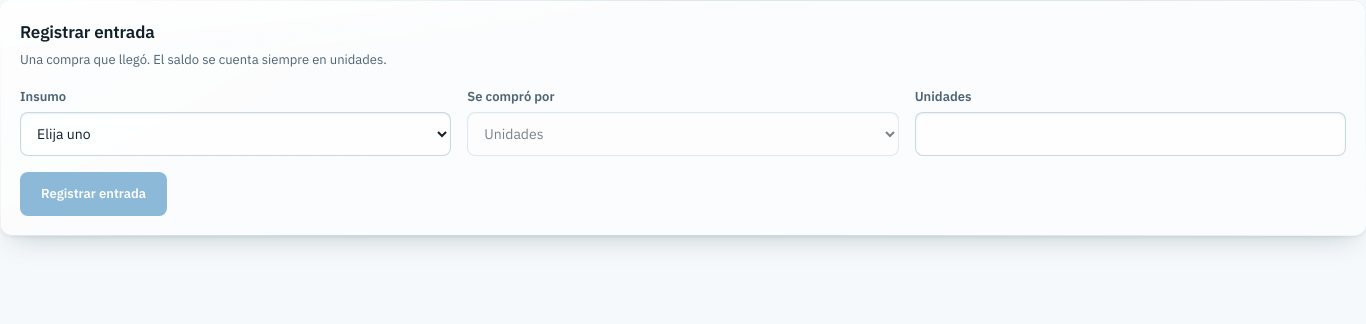
Test case: EntradaDeInsumo — la conversión se muestra antes de confirmar › en kilos muestra la cuenta entera: kilos × equivalencia = unidades
Select "TAP — Tapas" in the dropdown labelled "Insumo" at (236, 134), box [20,112,451,156]
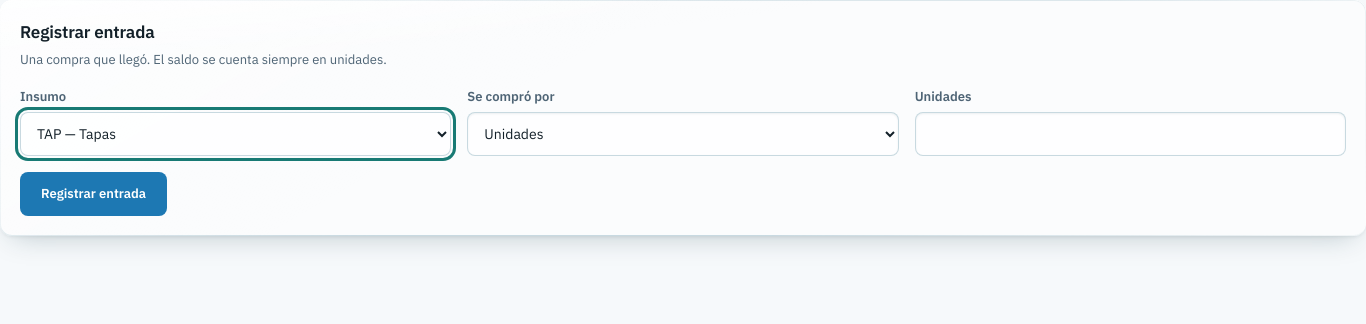
Select "Kilos" in the dropdown labelled "Se compró por" at (683, 134), box [467,112,899,156]
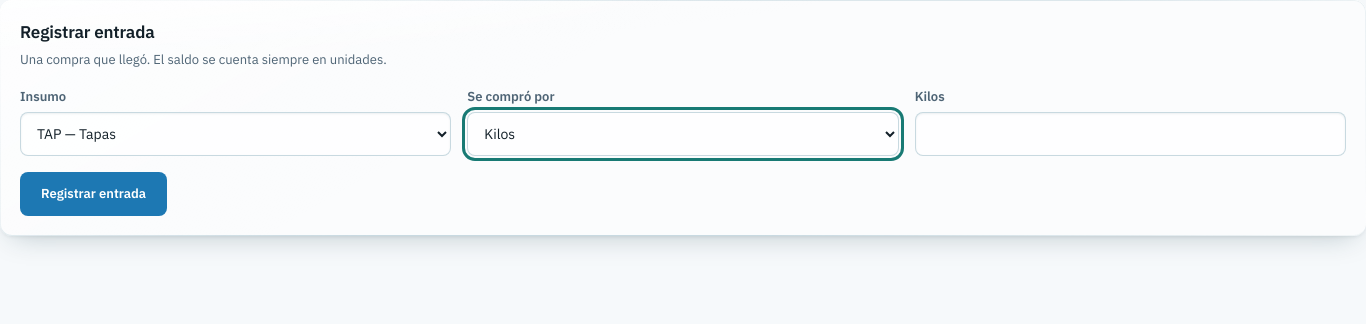
Type "12" into the number field labelled "Kilos" at (1130, 134), box [915,112,1346,156]
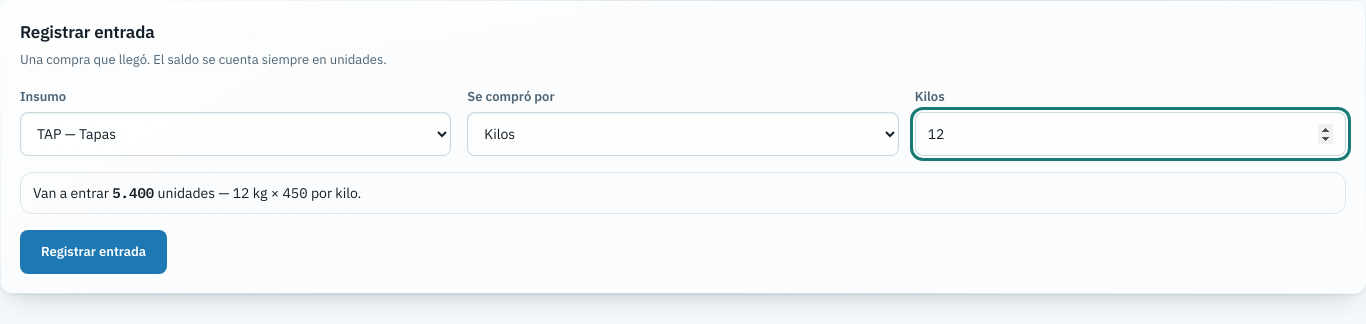
Result: the text "Van a entrar 5.400 unidades — 12 kg × 450 por kilo." is shown at [20,172,1346,214]
